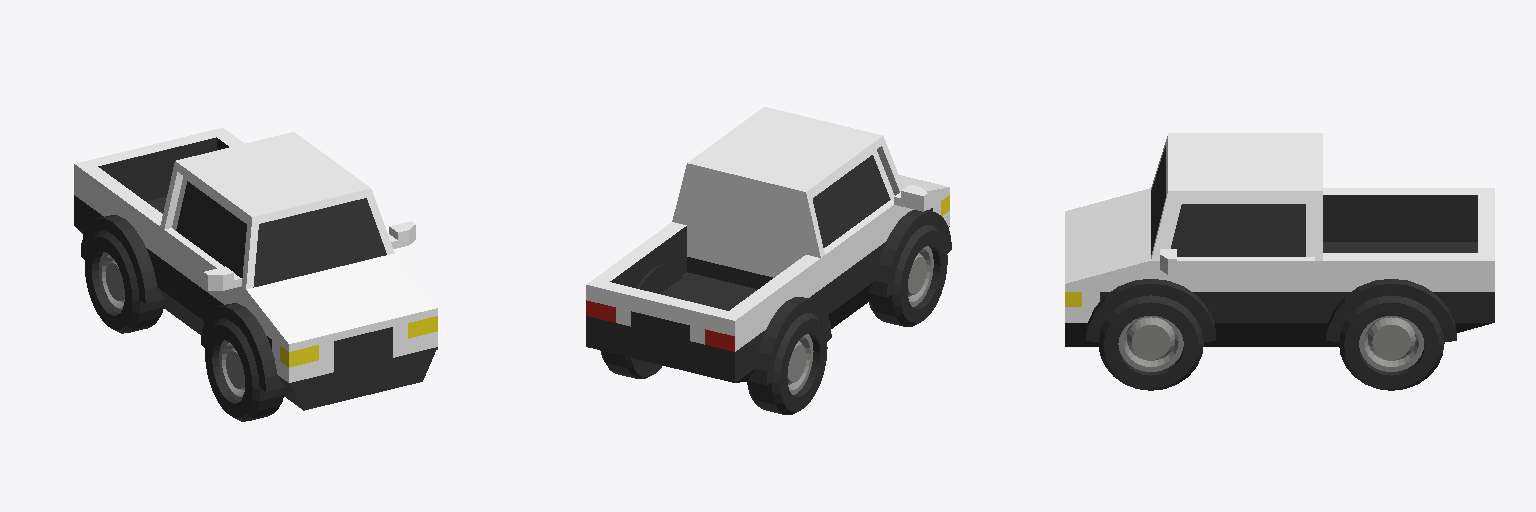
Rendered from pickup_truck_white.obj.
The picture shows the model from 3 angles: view 1: azimuth 30°, elevation 25°; view 2: azimuth 150°, elevation 25°; view 3: azimuth 270°, elevation 25°; orthographic projection.
Visible parts, largest first — view 1: mergedBlocks; view 2: mergedBlocks; view 3: mergedBlocks.
Boxes of the visible parts, box(x1,y1,x2,y2) form: mergedBlocks: box(74, 128, 437, 421); mergedBlocks: box(586, 107, 951, 414); mergedBlocks: box(1065, 133, 1494, 390).
Bounding box in the file's own units: 1.4 × 1.21 × 2.5.